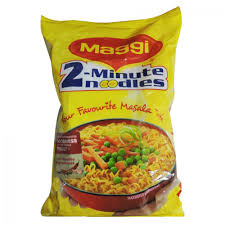maggi: (51, 26, 179, 216)
